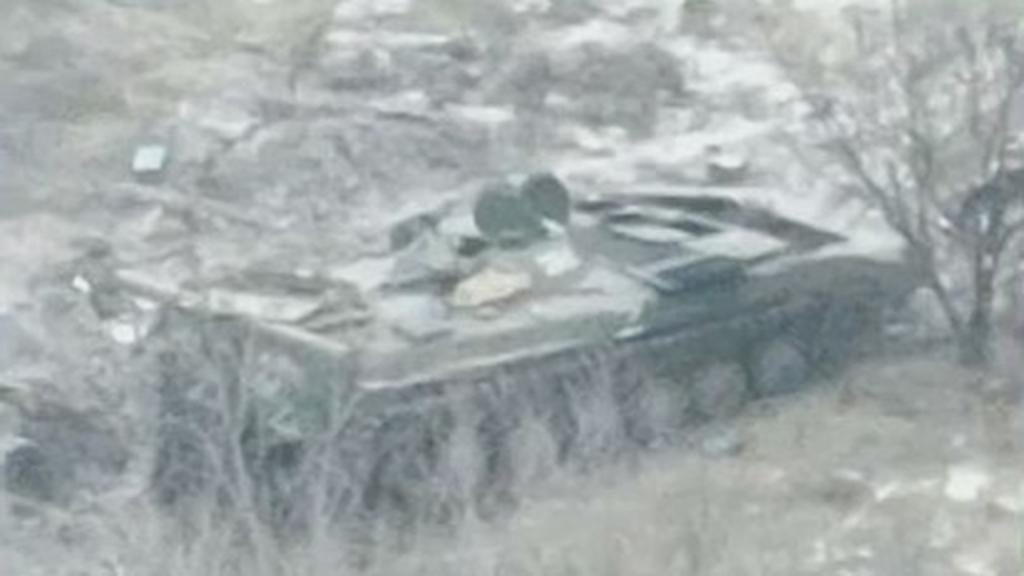APC-IFV: (154, 174, 918, 488)
